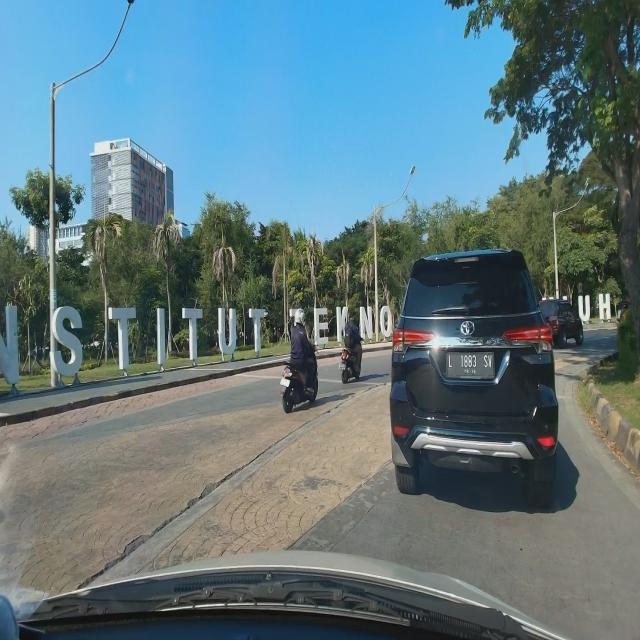car: (386, 245, 560, 514)
license-plate: (446, 352, 495, 378)
